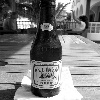beer: (26, 1, 65, 96)
